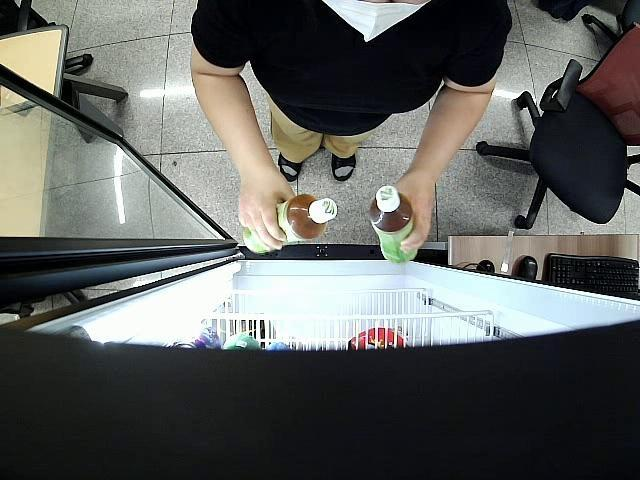19_17cha: (242, 194, 338, 253), (368, 186, 418, 264)
